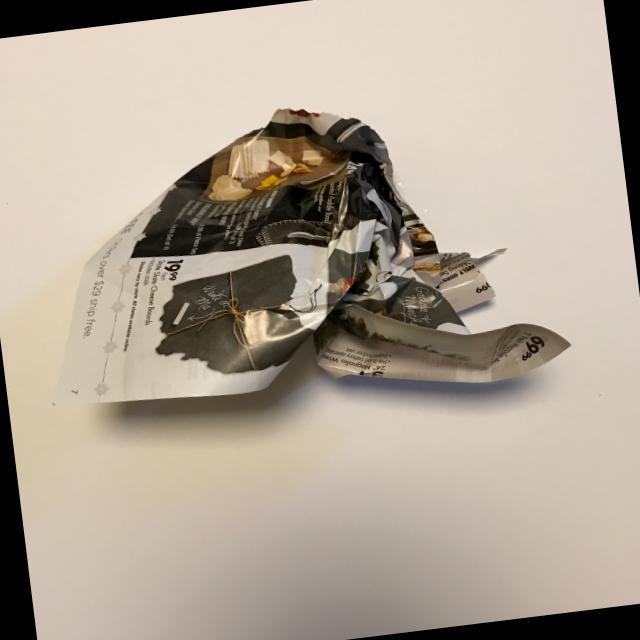Paper: (0, 29, 638, 493)
